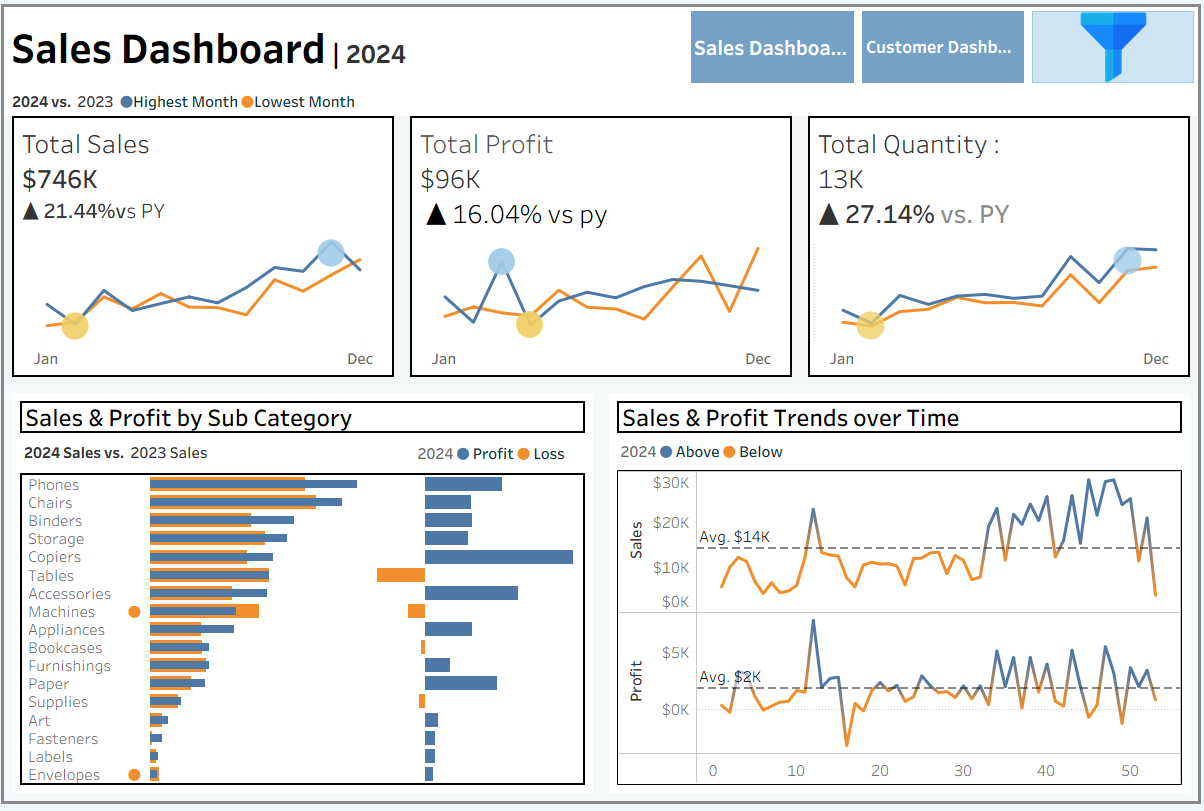

The dashboard page shown, as its layout file describes it:
{"tool":"tableau","page":{"name":"Sales","canvas":[1200,800],"ordinal":0},"visuals":[{"type":"text","box":[3,3,683,80]},{"type":"dashboard-object","box":[686,3,171,80]},{"type":"dashboard-object","box":[857,3,170,80]},{"type":"dashboard-object","box":[1027,3,170,80]},{"type":"worksheet","title":"Leg KPI","mark":"Automatic","box":[3,83,1194,29]},{"type":"blank","box":[955,84,234,38]},{"type":"worksheet","title":"kpisales","mark":"Automatic","rows":["Calculation_0196828183302149"],"cols":["Order Date"],"box":[3,112,398,269]},{"type":"worksheet","title":"kpi_profit","mark":"Automatic","rows":["Calculation_0935977013985284"],"cols":["Order Date"],"box":[401,112,398,269]},{"type":"worksheet","title":"kpi-qty","mark":"Automatic","rows":["min_max_sales (copy)_2326589627588614"],"cols":["Order Date"],"box":[799,112,398,269]},{"type":"text","box":[955,122,234,35]},{"type":"parameter","param":"[Parameters].[Parameter 1]","box":[955,157,234,56]},{"type":"blank","box":[955,213,234,77]},{"type":"text","box":[955,290,234,29]},{"type":"filter","title":"kpisales","param":"[federated.041cgny0teb3ck15wfer41h6zowy].[none:Category:nk]","box":[955,319,234,61]},{"type":"filter","title":"kpisales","param":"[federated.041cgny0teb3ck15wfer41h6zowy].[none:Sub-Category:nk]","box":[955,380,234,61]},{"type":"text","box":[15,393,573,40]},{"type":"text","box":[612,393,573,40]},{"type":"worksheet","title":"Leg SubCat","mark":"Automatic","box":[15,433,394,32]},{"type":"text","box":[409,433,179,32]},{"type":"text","box":[612,433,573,29]},{"type":"text","box":[955,441,234,29]},{"type":"worksheet","title":"weekly trends","mark":"Automatic","rows":["Calculation_0196828175167489","Calculation_0935976964075522"],"cols":["Order Date"],"box":[612,462,573,323]},{"type":"worksheet","title":"sub-cat comp","mark":"Bar","rows":["Sub-Category","Calculation_2326589615071232"],"cols":["CY_Sales (copy)_0196828175790082","Calculation_0196828175167489","Calculation_0935976964075522"],"box":[15,465,573,319.9]},{"type":"filter","title":"kpisales","param":"[federated.041cgny0teb3ck15wfer41h6zowy].[none:Region:nk]","box":[955,470,234,61]},{"type":"filter","title":"kpisales","param":"[federated.041cgny0teb3ck15wfer41h6zowy].[none:State/Province:nk]","box":[955,531,234,61]},{"type":"filter","title":"kpisales","param":"[federated.041cgny0teb3ck15wfer41h6zowy].[none:City:nk]","box":[955,592,234,61]}]}

Visuals, with their boxes in screenshot pixels (x1, y1, x2, y2), scaled from the page's 1200x800 canvas onto the 1204x811 screenshot:
text: bbox(3, 3, 688, 84)
dashboard-object: bbox(688, 3, 860, 84)
dashboard-object: bbox(860, 3, 1030, 84)
dashboard-object: bbox(1030, 3, 1201, 84)
"Leg KPI" worksheet: bbox(3, 84, 1201, 114)
blank: bbox(958, 85, 1193, 124)
"kpisales" worksheet: bbox(3, 114, 402, 386)
"kpi_profit" worksheet: bbox(402, 114, 802, 386)
"kpi-qty" worksheet: bbox(802, 114, 1201, 386)
text: bbox(958, 124, 1193, 159)
parameter: bbox(958, 159, 1193, 216)
blank: bbox(958, 216, 1193, 294)
text: bbox(958, 294, 1193, 323)
"kpisales" filter: bbox(958, 323, 1193, 385)
"kpisales" filter: bbox(958, 385, 1193, 447)
text: bbox(15, 398, 590, 439)
text: bbox(614, 398, 1189, 439)
"Leg SubCat" worksheet: bbox(15, 439, 410, 471)
text: bbox(410, 439, 590, 471)
text: bbox(614, 439, 1189, 468)
text: bbox(958, 447, 1193, 476)
"weekly trends" worksheet: bbox(614, 468, 1189, 796)
"sub-cat comp" worksheet (Bar marks): bbox(15, 471, 590, 796)
"kpisales" filter: bbox(958, 476, 1193, 538)
"kpisales" filter: bbox(958, 538, 1193, 600)
"kpisales" filter: bbox(958, 600, 1193, 662)
